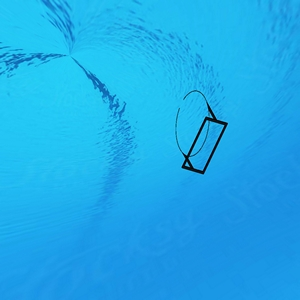circle: (174, 89, 231, 179)
